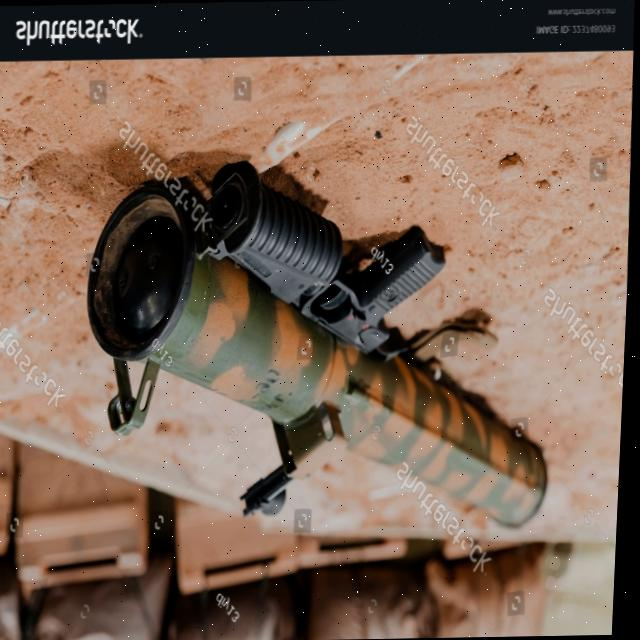rocket: (74, 152, 567, 538)
